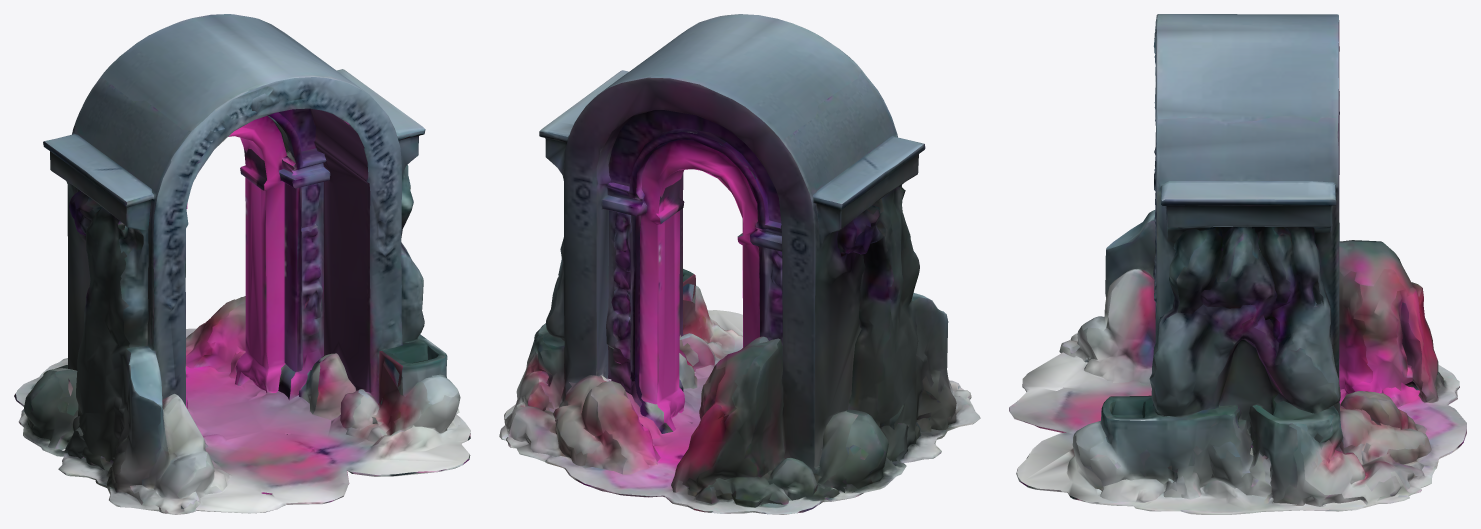
File: wasteland-archway-generated-2026-05-17T19-07-26-612Z.low.glb
The picture shows the model from 3 angles, left to right: view 1: azimuth 30°, elevation 25°; view 2: azimuth 150°, elevation 25°; view 3: azimuth 270°, elevation 25°; orthographic projection. The views are drawn at different scales.
Parts seen in each view (by area): view 1: temp_mesh.ply; view 2: temp_mesh.ply; view 3: temp_mesh.ply.
Boxes of the visible parts, x1,y1,x2,y2 form: temp_mesh.ply: [14, 14, 470, 514]; temp_mesh.ply: [499, 14, 980, 514]; temp_mesh.ply: [1009, 14, 1466, 514].
Bounding box in the file's own units: 1.96 × 1.87 × 1.97.
1 material, 1 textured.
